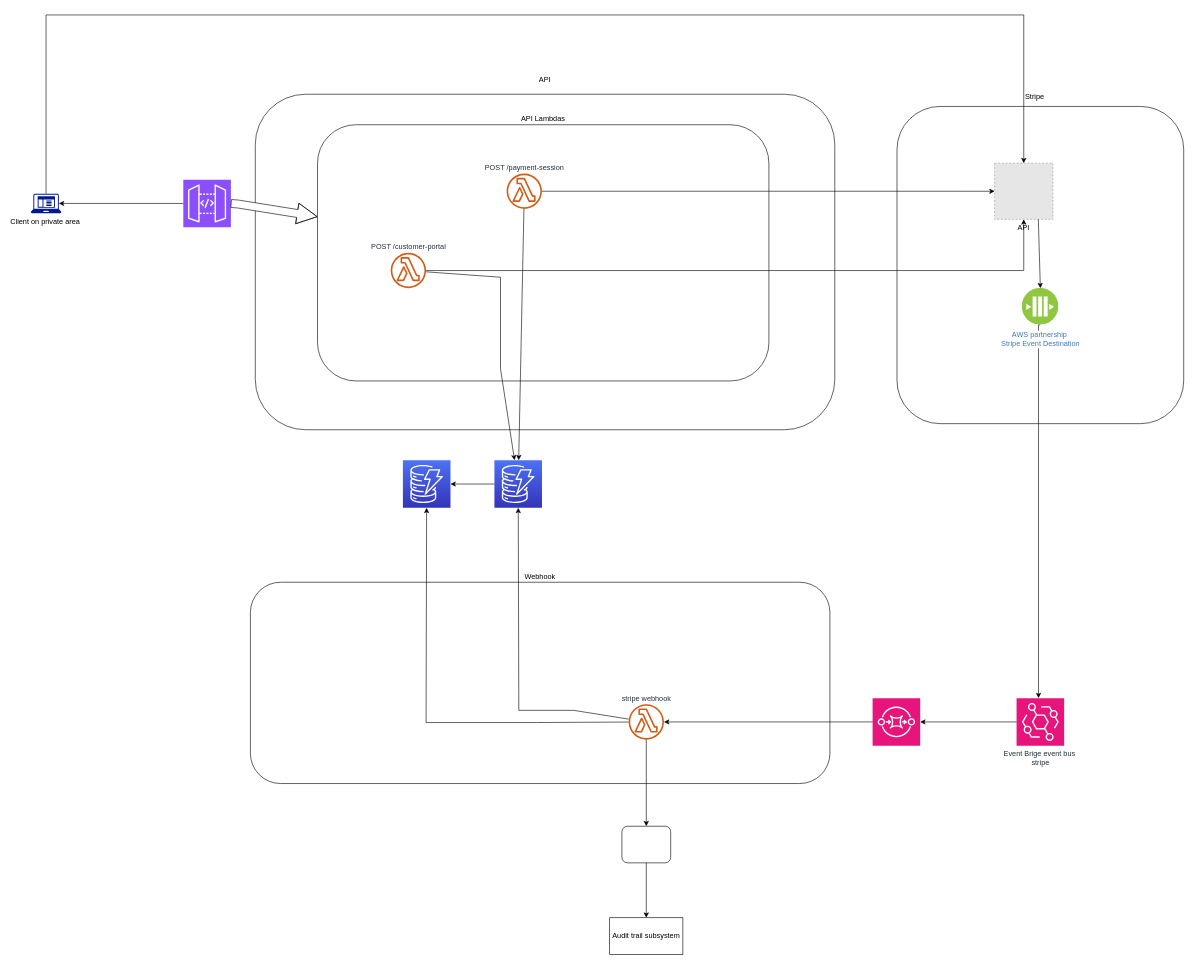
Image size: 1194x965. Some labels were removed from this diagram. Grey dashed boxes stand in for pictures. Here are the shapes that lost their labels. From the top down, the centre of each, then its label:
At point (207, 203): "API Gateway".
At point (426, 484): "paymentUsers index (contains stripe ID -> our ID)".
At point (518, 484): "users table (contains all Credits stuff)".
At point (896, 722): "SQS stripe-webhook".
At point (646, 844): "Payment Webhook Fanout pattern".
